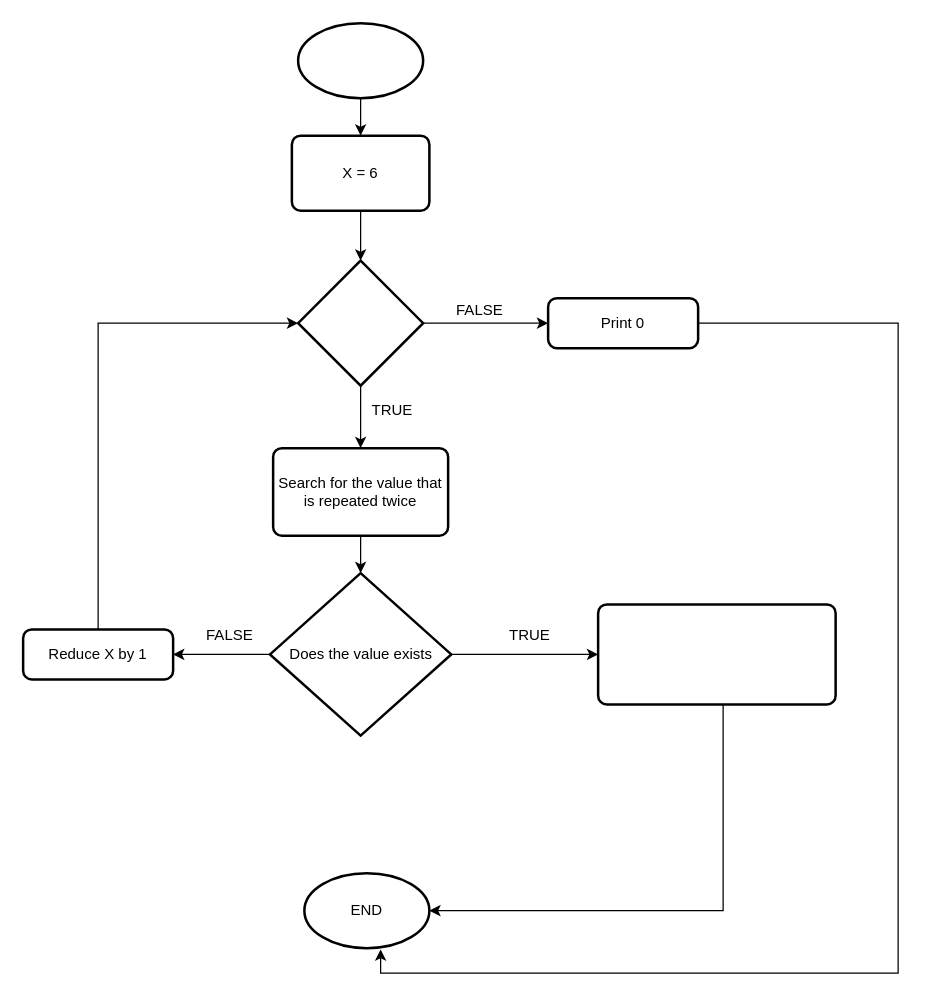
Some shapes in this 930 by 1005 pixel diagram are drawn without their labels. Here are the shapes that lost their labels. From the top down, the box of each, then its label:
(296, 21, 424, 99): START
(296, 259, 424, 386): X >= 1
(596, 602, 836, 705): Print the value multiplied by 2
